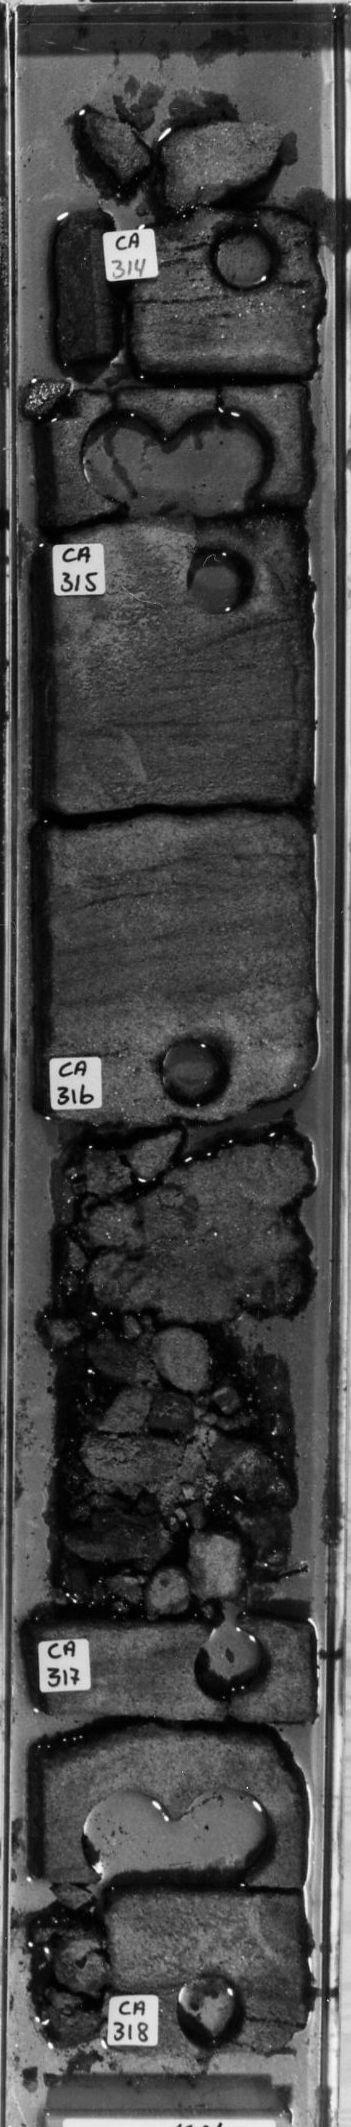hplug: (150, 1021, 247, 1112), (201, 214, 295, 303), (186, 1624, 272, 1708), (176, 537, 266, 617), (172, 1967, 249, 2050)
scal: (168, 396, 282, 511), (173, 1785, 285, 1890), (70, 404, 169, 514), (77, 1782, 173, 1881)
vplug: (83, 222, 144, 361)
